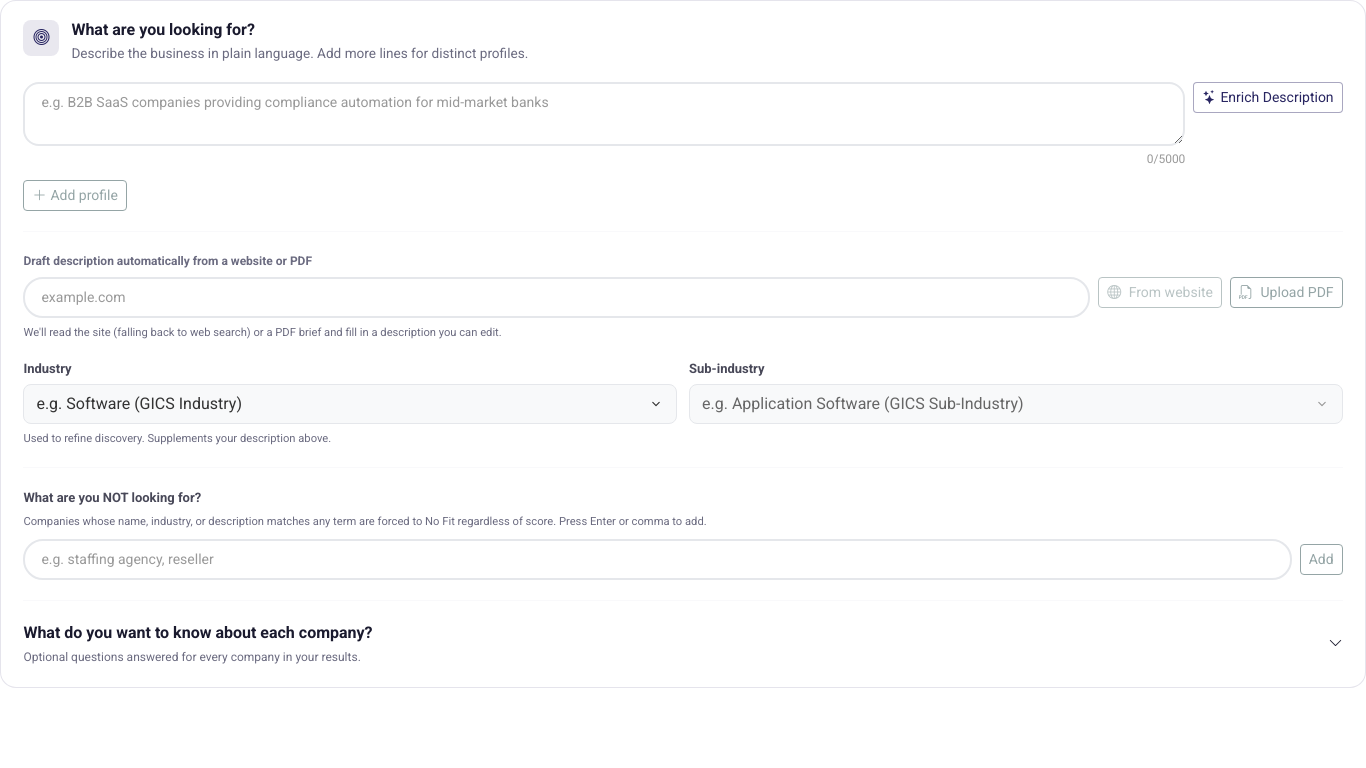
Test: Target Step 1 — industry suggestion on blur › fills the industry select from the description when empty
Expected: the dropdown labelled "Industry" is shown, [23,384,677,424]
Type "dental clinic scheduling saas" into the text box named "Target profile 1".
click(604, 114); type("dental clinic scheduling saas")  # box [23,82,1185,146]
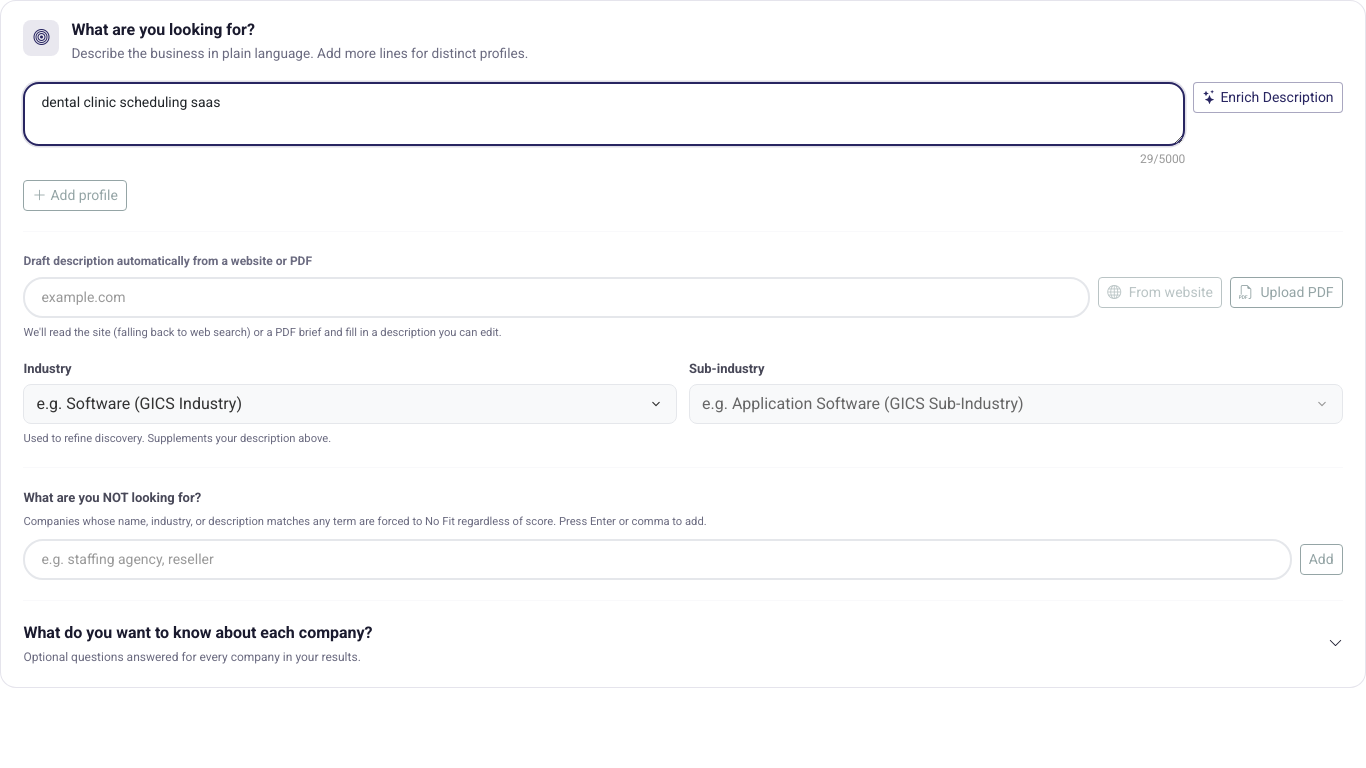
Press Tab
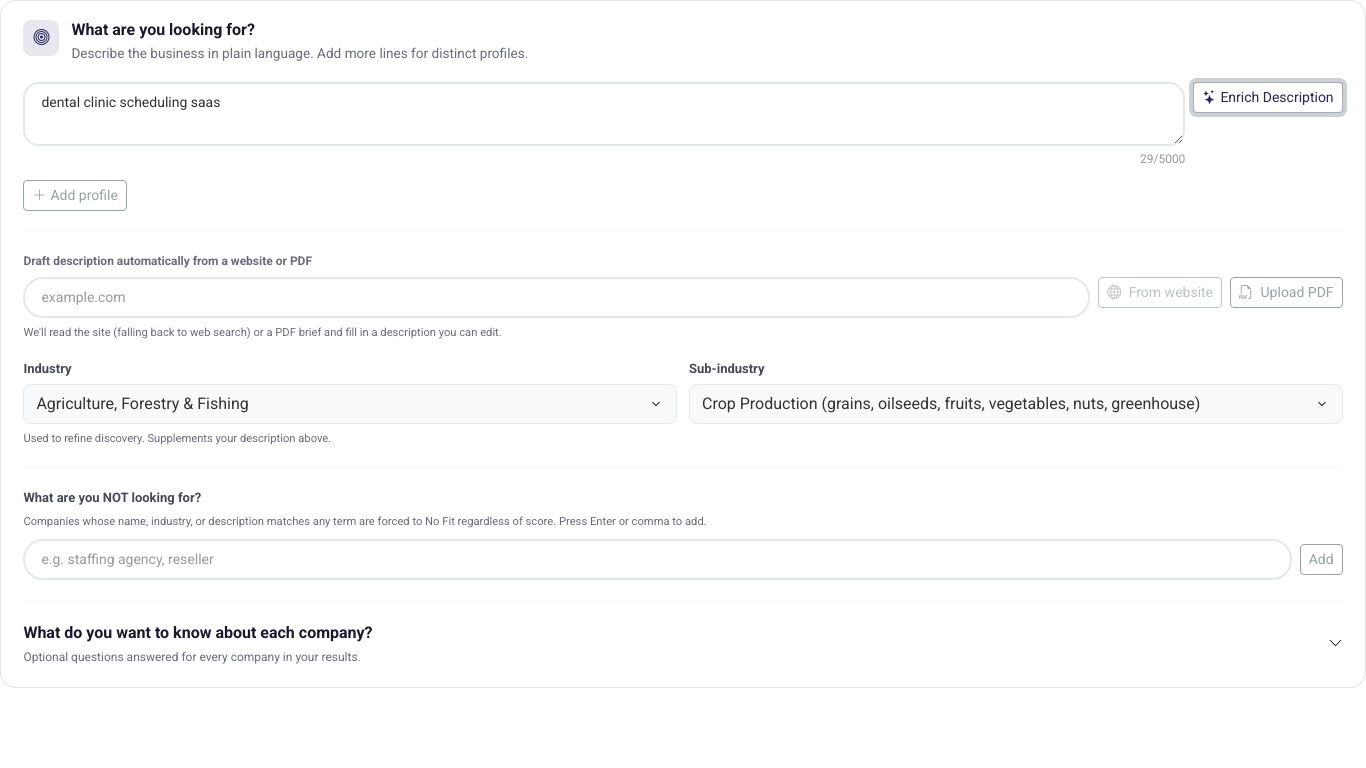
Expected: the dropdown named "Industry" reads "Agriculture, Forestry & Fishing", [23,384,677,424]
Expected: the dropdown named "Sub-industry" reads "Crop Production (grains, oilseeds, fruits, vegetables, nuts, greenhouse)", [689,384,1343,424]
